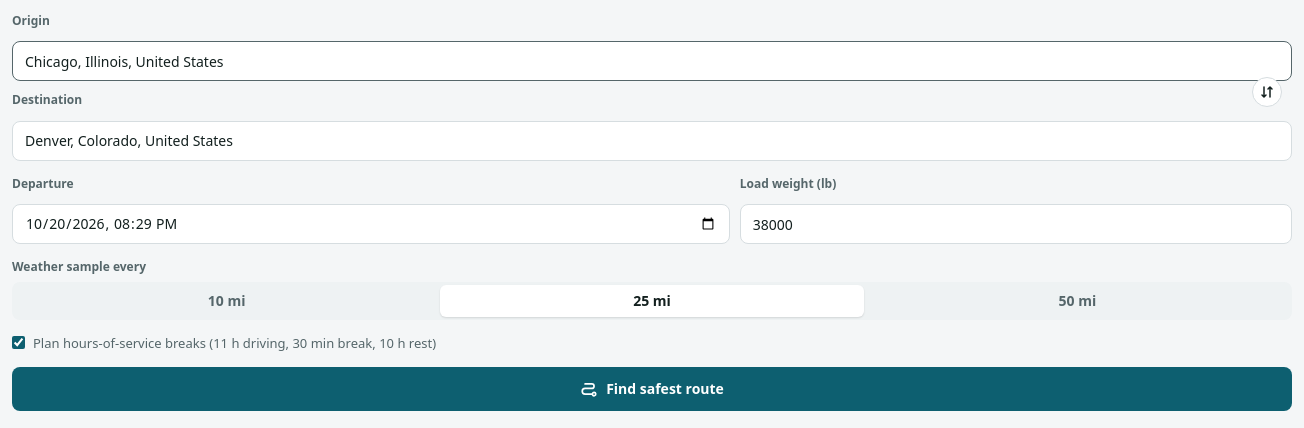
TripForm › swaps origin and destination
Click the button named "Swap origin and destination".
click(1267, 92)  # box x1=1252 y1=77 x2=1282 y2=107
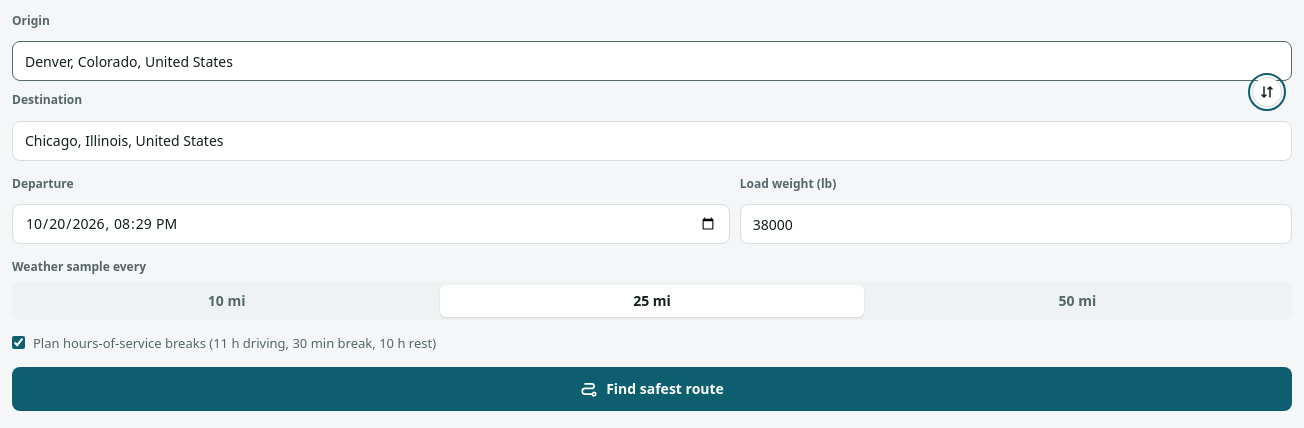
Expected: the field labelled "Origin" holds "Denver, Colorado, United States", x1=12 y1=41 x2=1292 y2=81
Expected: the field labelled "Destination" holds "Chicago, Illinois, United States", x1=12 y1=121 x2=1292 y2=161
